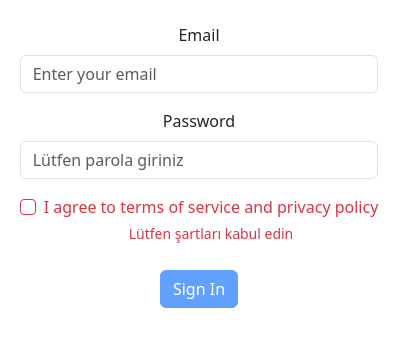
Test: Login page › Success Test › Error Messages › email hata mesajı
Type "asd@asd" into the field with test id "email-input".
click(200, 74); type("asd@asd")  # box [20,55,379,93]
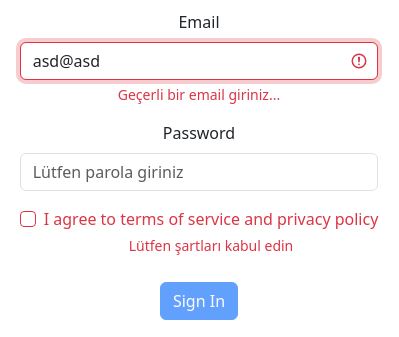
Expected: the button with test id "submit-button" is disabled, [160,282,238,320]
Expected: the text "Geçerli bir email giriniz..." is shown, [118,85,280,104]
